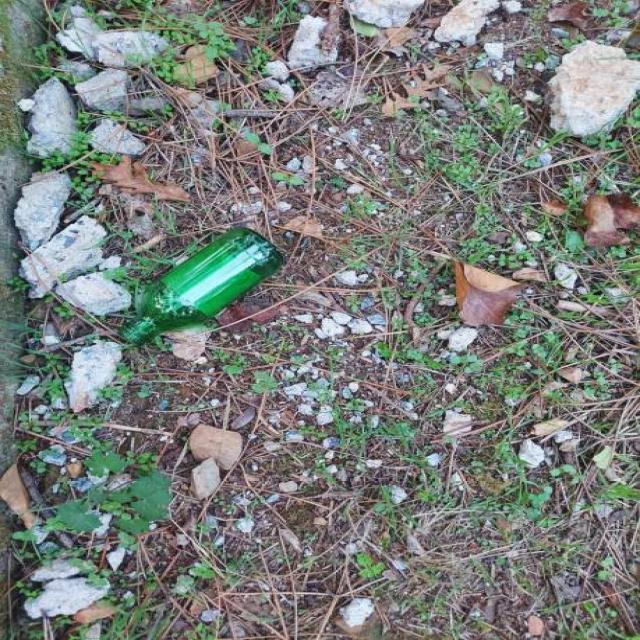glass: (132, 242, 264, 336)
